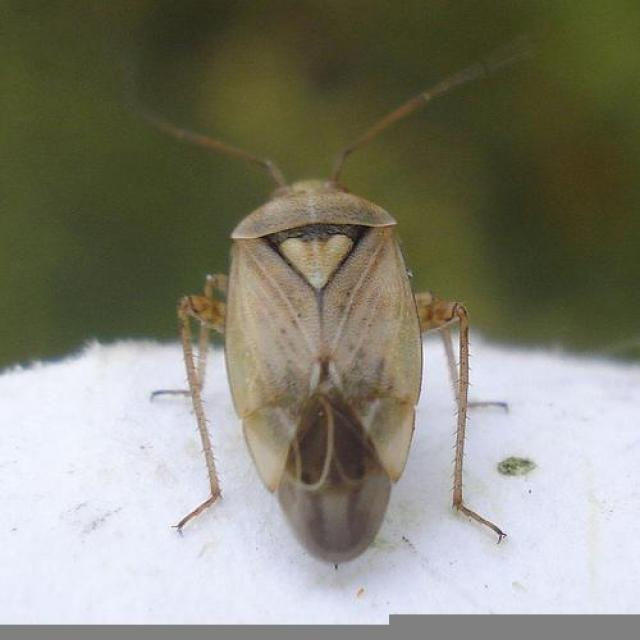Miridae-Adult-: (96, 44, 547, 572)
